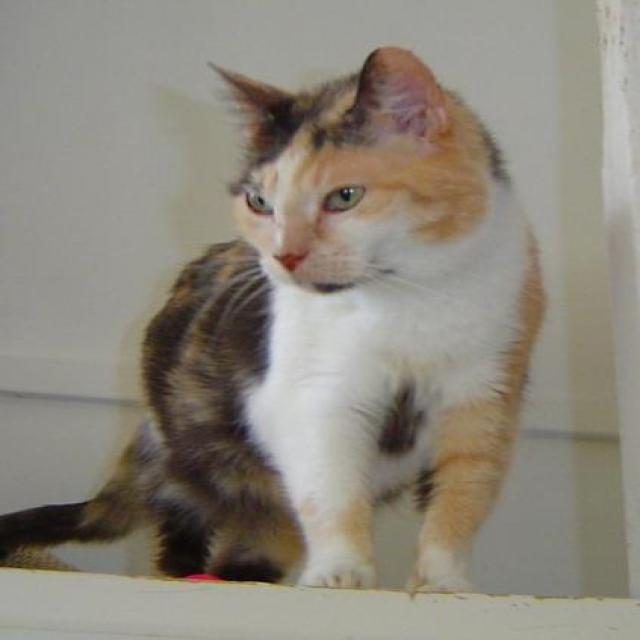Cats: (0, 43, 548, 594)
